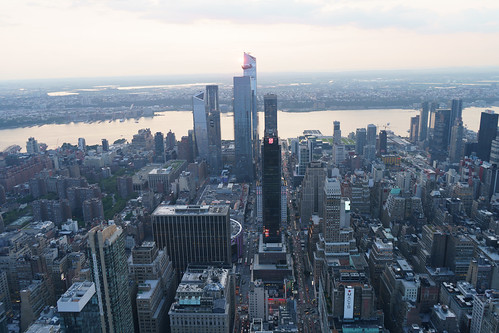building: (142, 199, 233, 271), (318, 185, 370, 290), (88, 226, 136, 333), (169, 267, 237, 333), (316, 264, 380, 333), (256, 138, 286, 278), (127, 242, 171, 331), (231, 52, 258, 180), (192, 80, 223, 172), (53, 279, 97, 332)
river: (1, 107, 499, 147)
sky: (1, 1, 499, 71)
